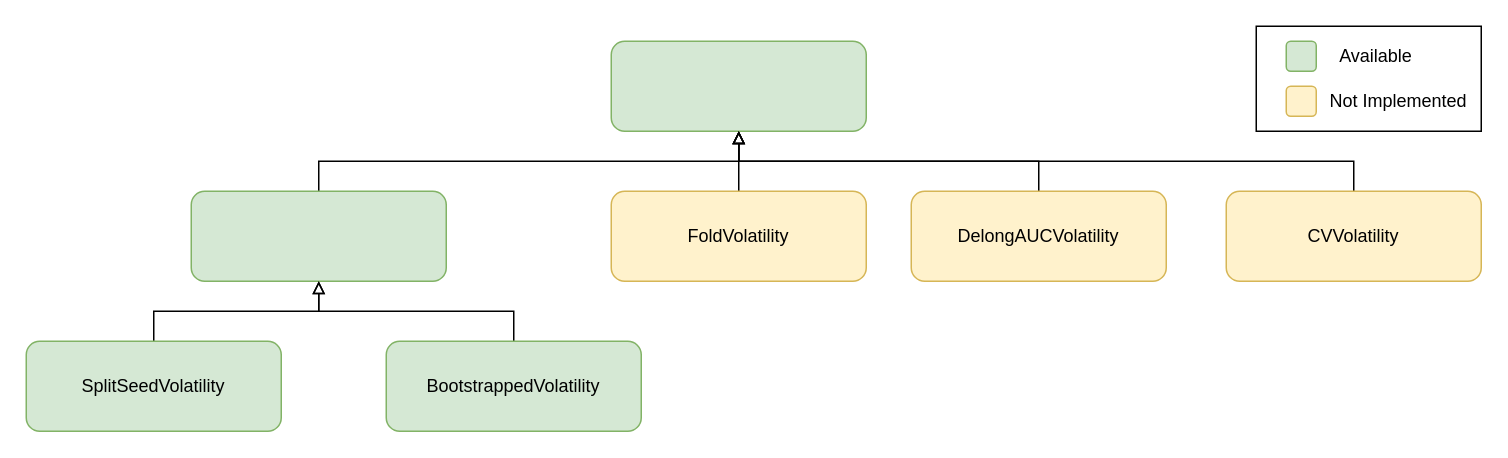
This 1508x458 diagram has some shape labels left out. Here are the shapes that lost their labels. From the top down, the centre of each, then its label:
At (x=738, y=85): "BaseVolatilityEstimator".
At (x=318, y=235): "TrainTestVolatility".
